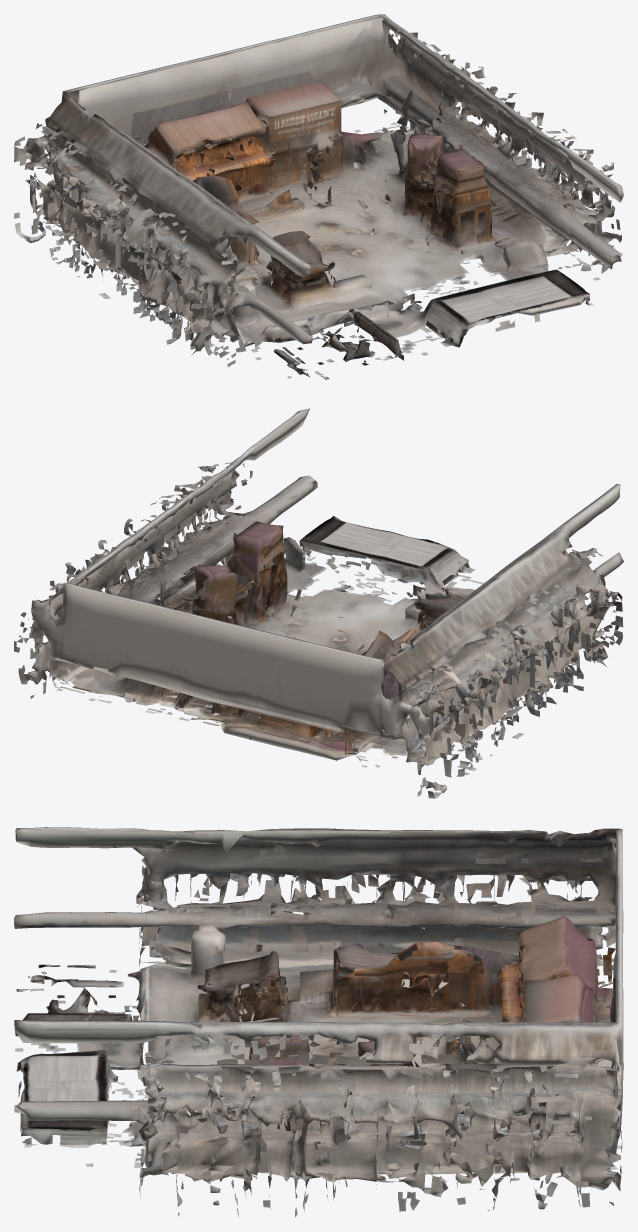
3 renders of one model, top to bottom at view 1: azimuth 30°, elevation 25°; view 2: azimuth 150°, elevation 25°; view 3: azimuth 270°, elevation 25°, orthographic. The views are drawn at different scales.
Size of the model in its own units: 2 by 0.5996 by 2.
1 material, 1 textured.
